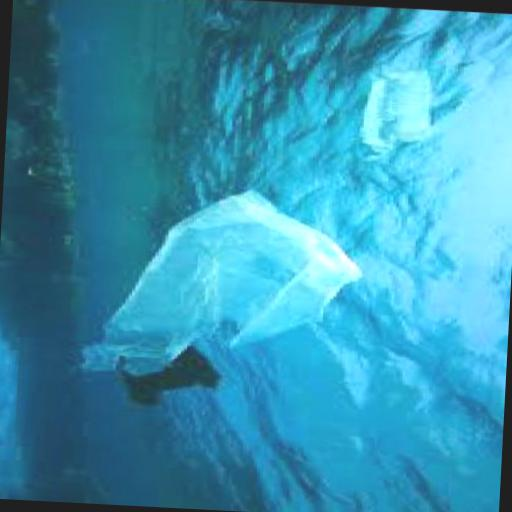plastic: (79, 182, 372, 389), (120, 341, 226, 410), (362, 68, 436, 164)
